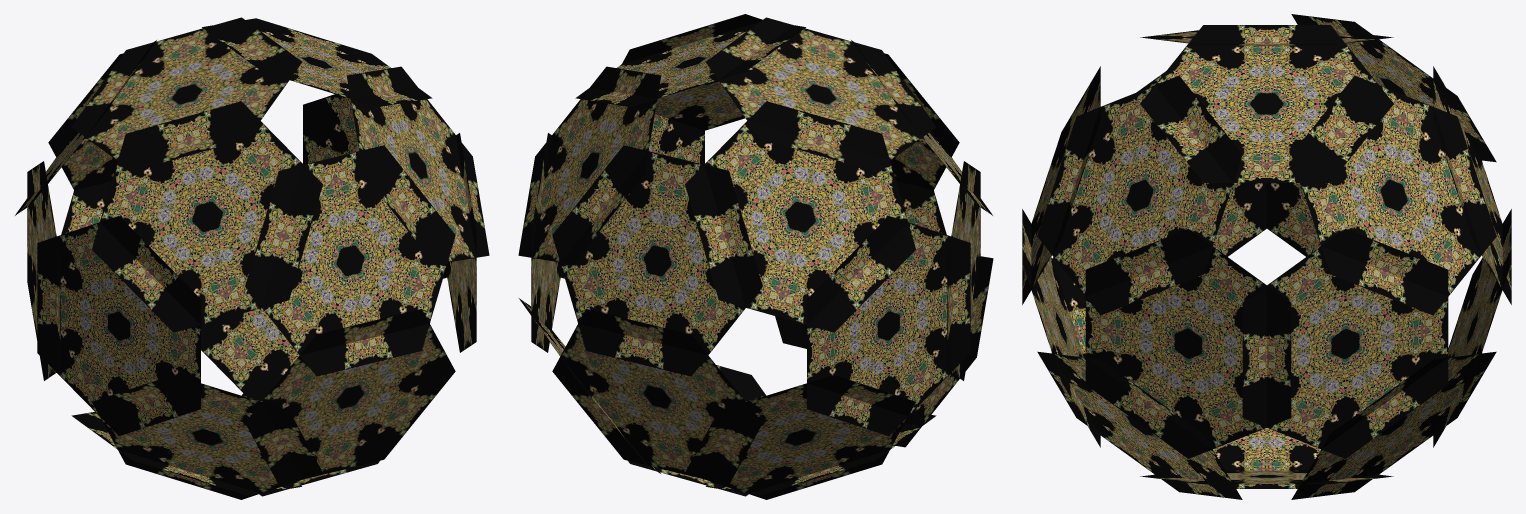
File: IcositruncatedDodecadodecahedron4.gltf
The picture shows the model from 3 angles, left to right: view 1: azimuth 30°, elevation 25°; view 2: azimuth 150°, elevation 25°; view 3: azimuth 270°, elevation 25°; orthographic projection. The views are drawn at different scales.
Visible parts, largest first — view 1: IcositruncatedDodecadodecahedron; view 2: IcositruncatedDodecadodecahedron; view 3: IcositruncatedDodecadodecahedron.
Boxes of the visible parts, box(x1,y1,x2,y2) form: IcositruncatedDodecadodecahedron: box(15, 17, 489, 499); IcositruncatedDodecadodecahedron: box(518, 14, 993, 499); IcositruncatedDodecadodecahedron: box(1022, 14, 1511, 499).
Size of the model in its own units: 3.85 by 3.85 by 3.85.
1 material, 1 textured.
